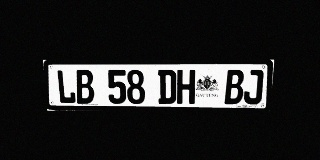5: (107, 70, 127, 104)
8: (126, 70, 145, 104)
B: (224, 70, 245, 104), (75, 70, 95, 104)
D: (158, 70, 176, 104)
H: (177, 70, 195, 104)
J: (243, 70, 264, 104)
L: (56, 70, 76, 104)
